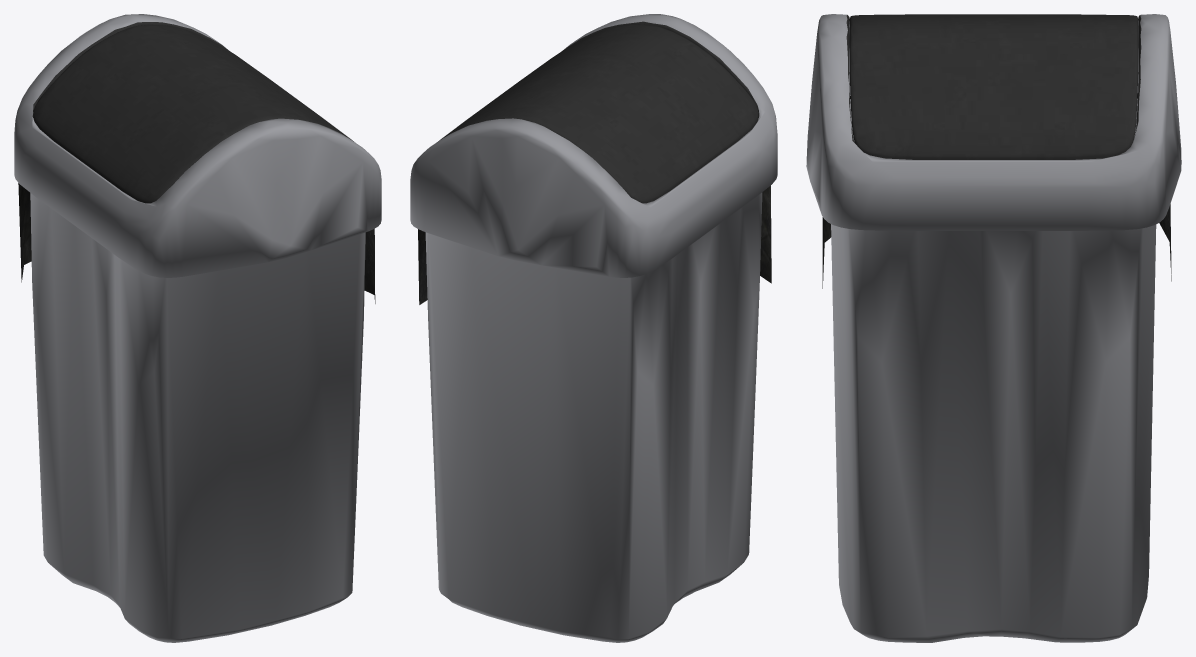
The model's file is Bin.fbx.
The picture shows the model from 3 angles, left to right: view 1: azimuth 30°, elevation 25°; view 2: azimuth 150°, elevation 25°; view 3: azimuth 270°, elevation 25°; orthographic projection. The views are drawn at different scales.
Visible parts, largest first — view 1: Waste Basket.001; view 2: Waste Basket.001; view 3: Waste Basket.001.
Part boxes in pixels (x1=…): Waste Basket.001: x1=14, y1=14, x2=381, y2=642; Waste Basket.001: x1=410, y1=14, x2=777, y2=642; Waste Basket.001: x1=806, y1=14, x2=1181, y2=642.
Size of the model in its own units: 5236 by 10238 by 6158.
